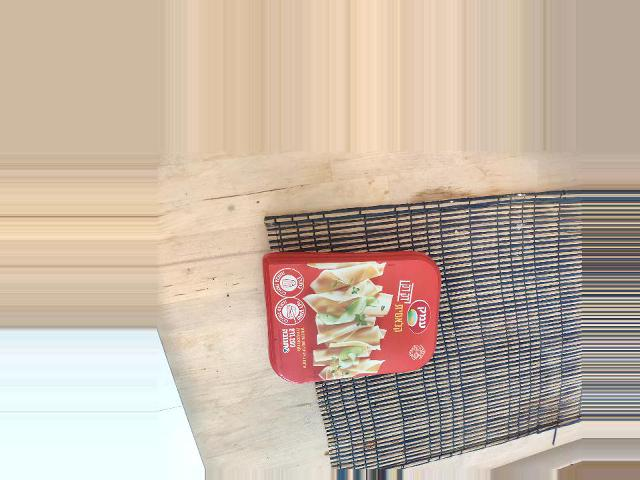cheese: (381, 287, 499, 480)
